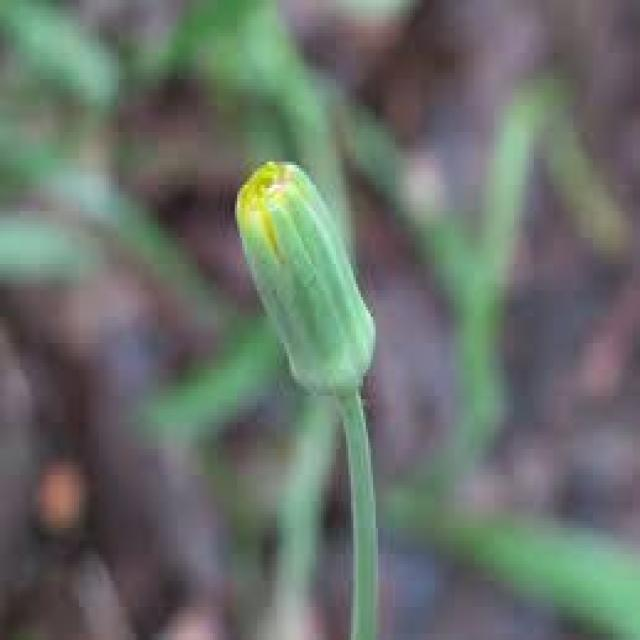Unbloomed: (230, 152, 378, 399)
